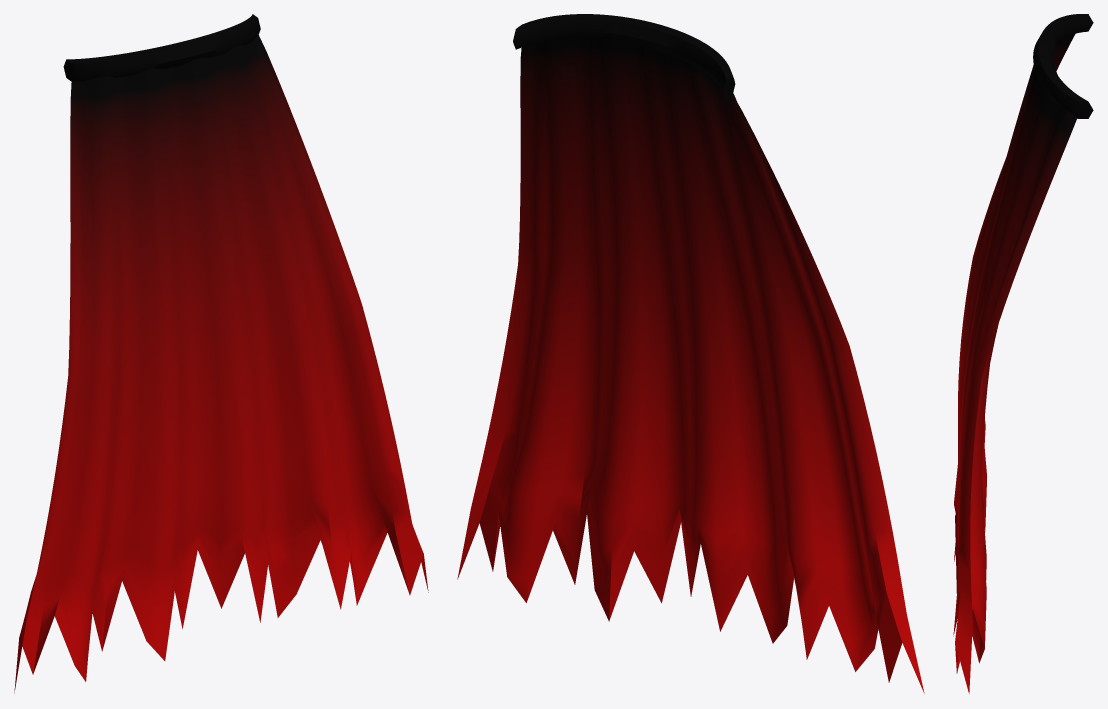
Rendered from cloak_tattered.glb.
The picture shows the model from 3 angles, left to right: view 1: azimuth 30°, elevation 25°; view 2: azimuth 150°, elevation 25°; view 3: azimuth 270°, elevation 25°; orthographic projection. The views are drawn at different scales.
Parts seen in each view (by area): view 1: CloakTattered; view 2: CloakTattered; view 3: CloakTattered.
Part boxes in pixels (bbox=[...]): CloakTattered: bbox=[14, 14, 428, 693]; CloakTattered: bbox=[457, 14, 924, 693]; CloakTattered: bbox=[953, 14, 1093, 693].
Bounding box in the file's own units: 0.9802 × 1.29 × 0.2989.
